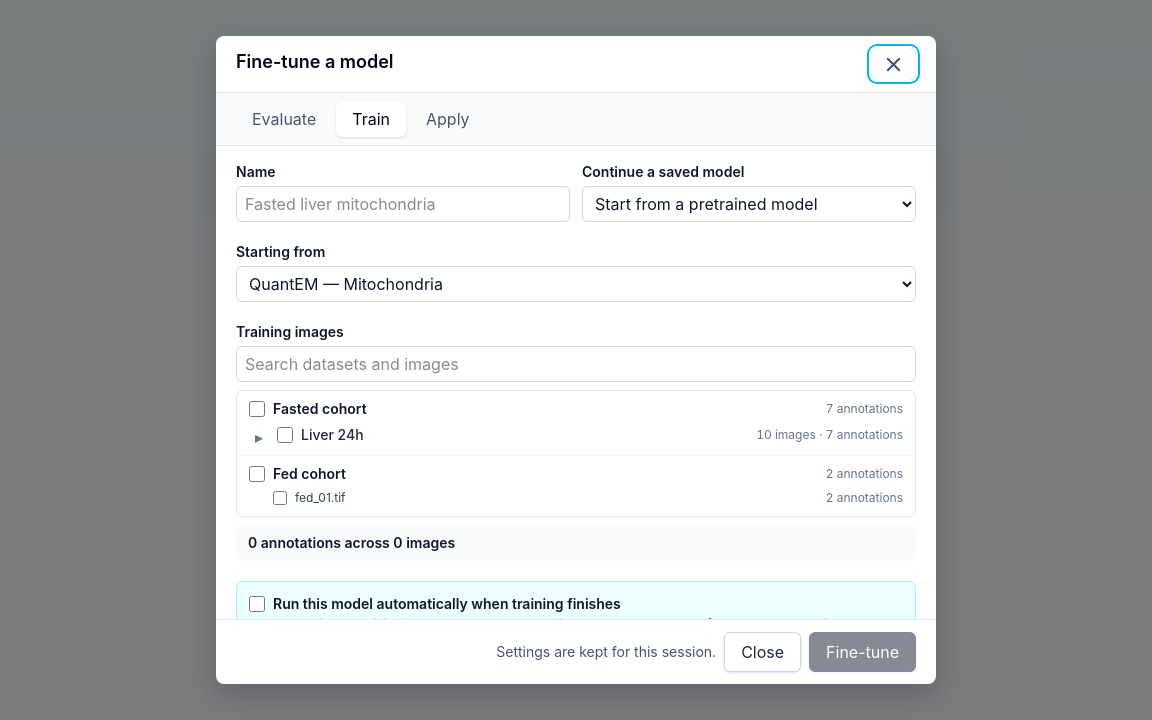
Test: FineTuneDialog › shows the specific server conflict: active_job
Click the checkbox labelled "Liver 24h": (285, 435) [277,427,293,443]
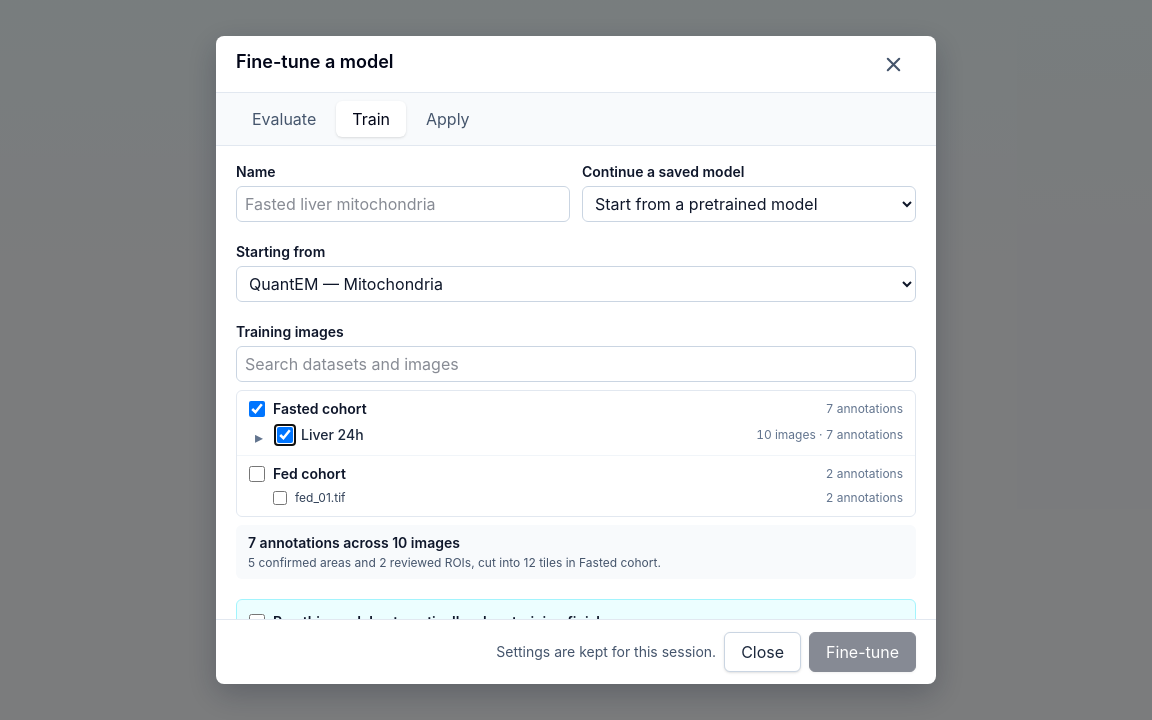
Result: the message with test id "finetune-count" shows "cut into 12 tiles" at [236,525,916,579]
In the field labelled "Name": (403, 204) [236,186,570,222], type "Previously deleted name"
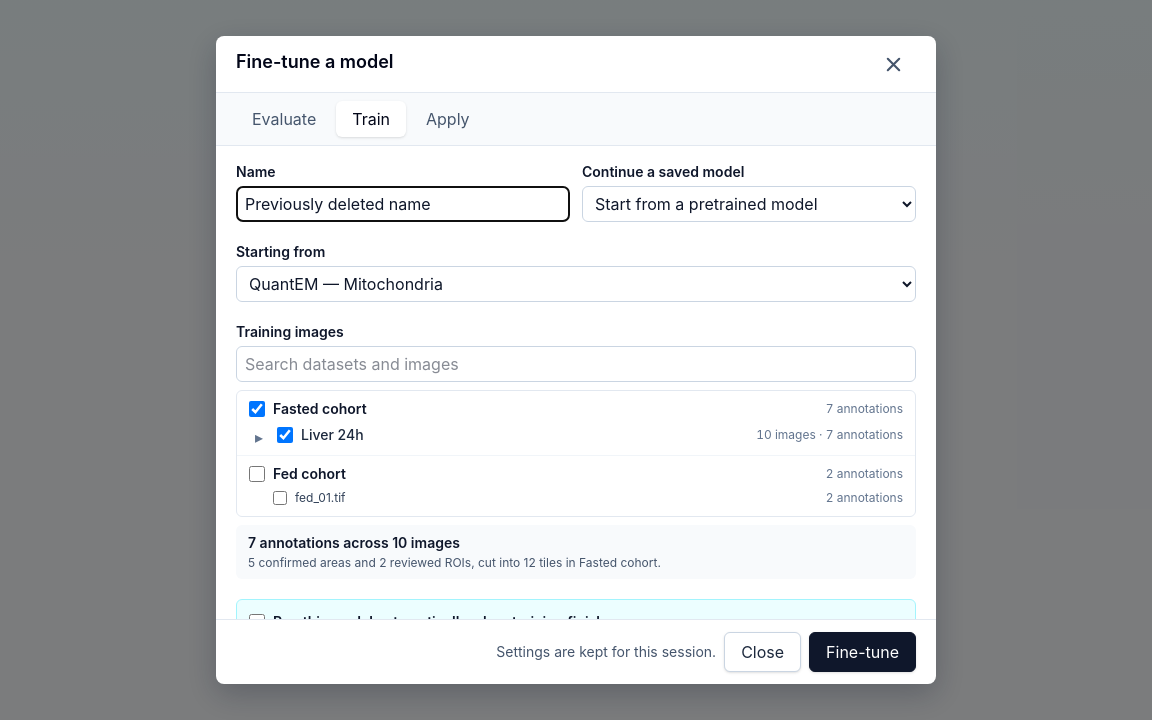
Click the button "Fine-tune": (863, 652) [809,632,916,672]
(page scrolled)
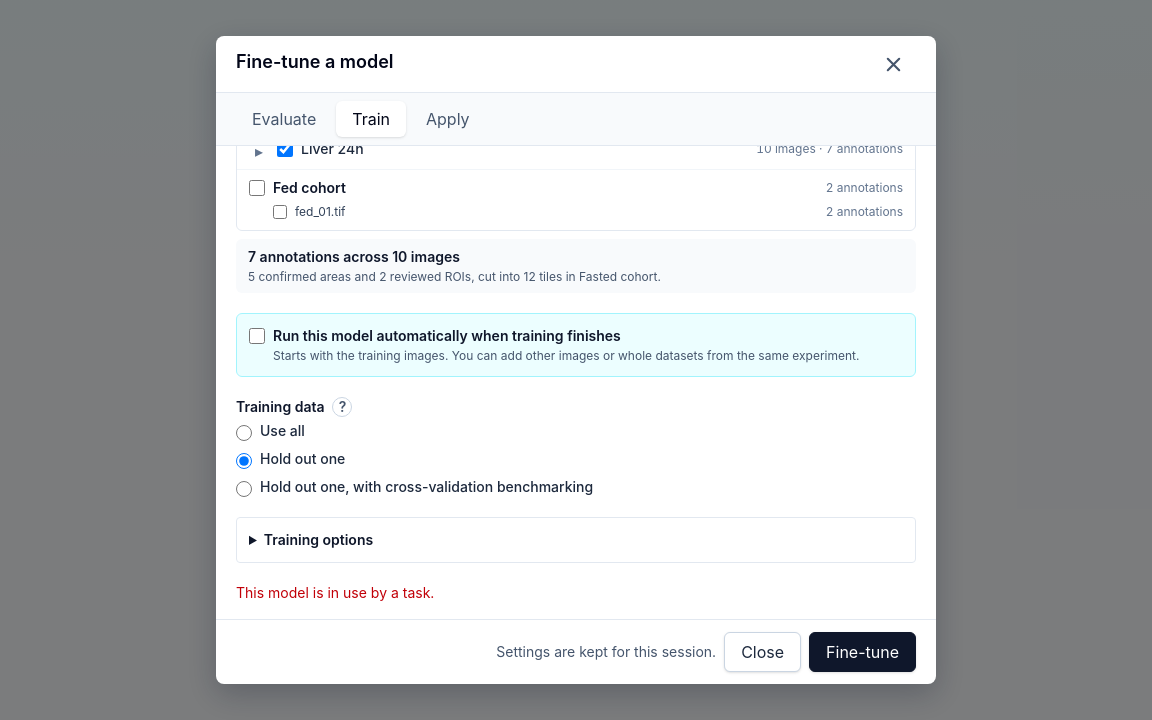
Result: the message "This model is in use by a task." is shown at [236,584,434,601]
